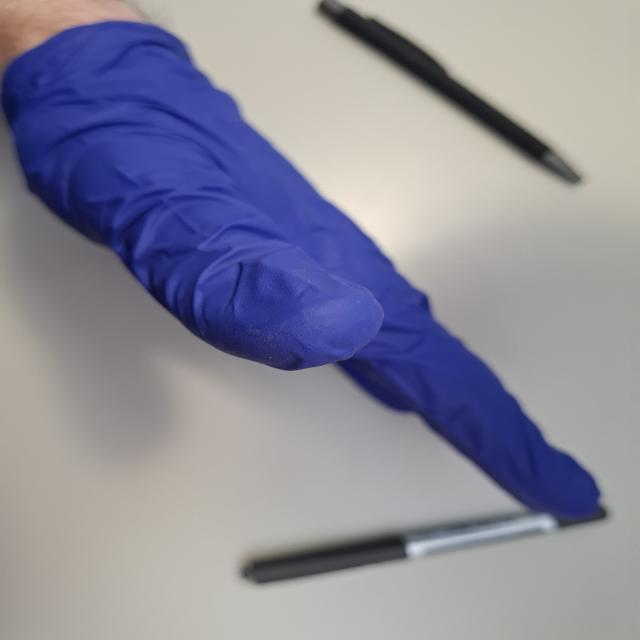glove_on: (4, 15, 608, 526)
